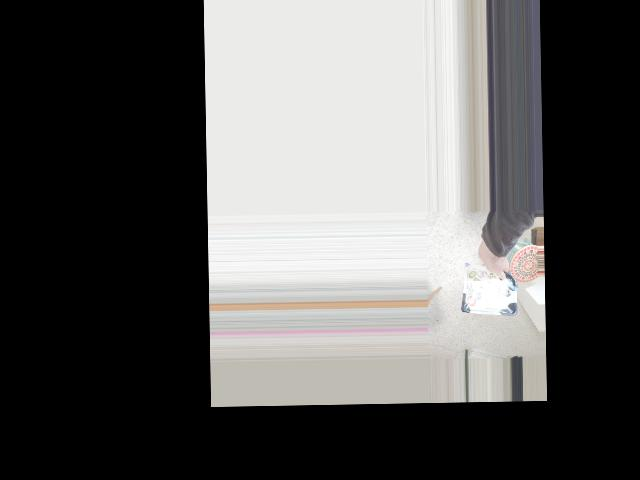cheese: (461, 243, 518, 305)
